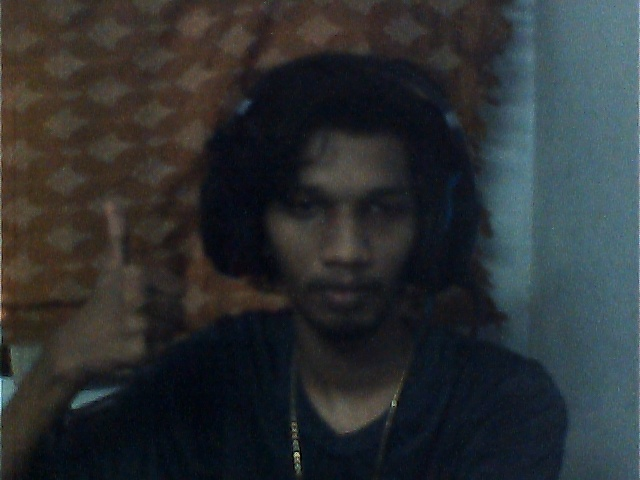ThumbsUp: (51, 201, 182, 404)
